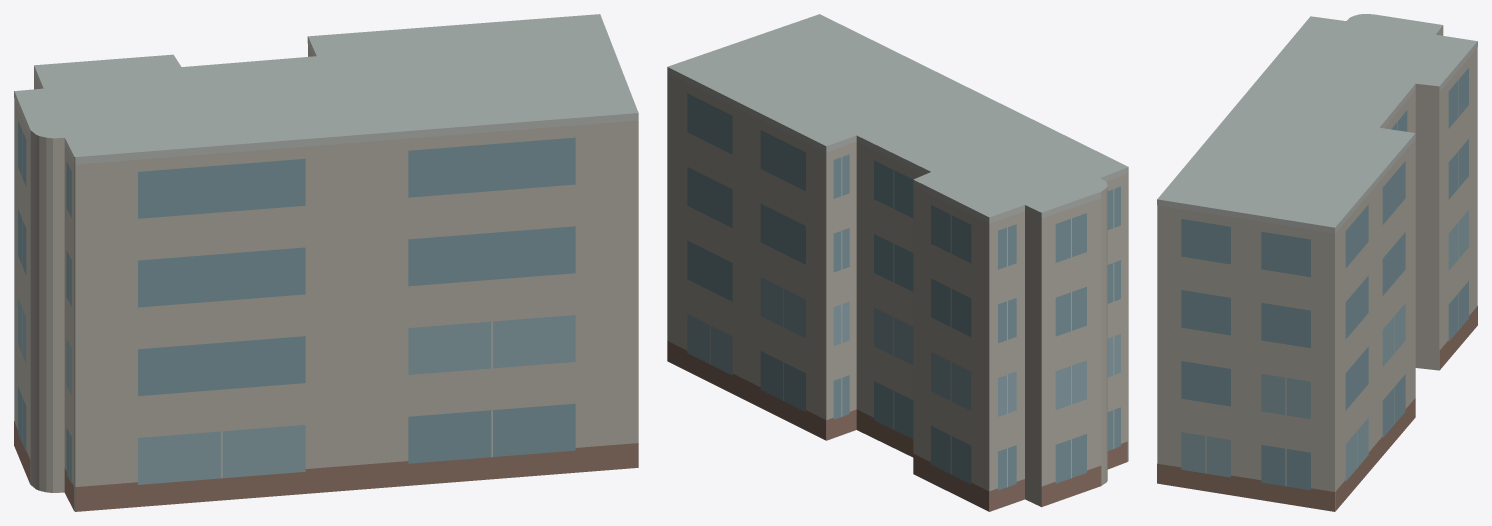
The model's file is survey-upis-32884108.glb.
The picture shows the model from 3 angles, left to right: view 1: azimuth 30°, elevation 25°; view 2: azimuth 150°, elevation 25°; view 3: azimuth 270°, elevation 25°; orthographic projection. The views are drawn at different scales.
Parts seen in each view (by area): view 1: survey-upis-32884108.tmp; view 2: survey-upis-32884108.tmp; view 3: survey-upis-32884108.tmp.
Part boxes in pixels (x1,y1,x2,y2): survey-upis-32884108.tmp: (14,14,638,511); survey-upis-32884108.tmp: (667,14,1128,511); survey-upis-32884108.tmp: (1157,14,1477,511).
Bounding box in the file's own units: 18.71 × 11.6 × 11.87.
